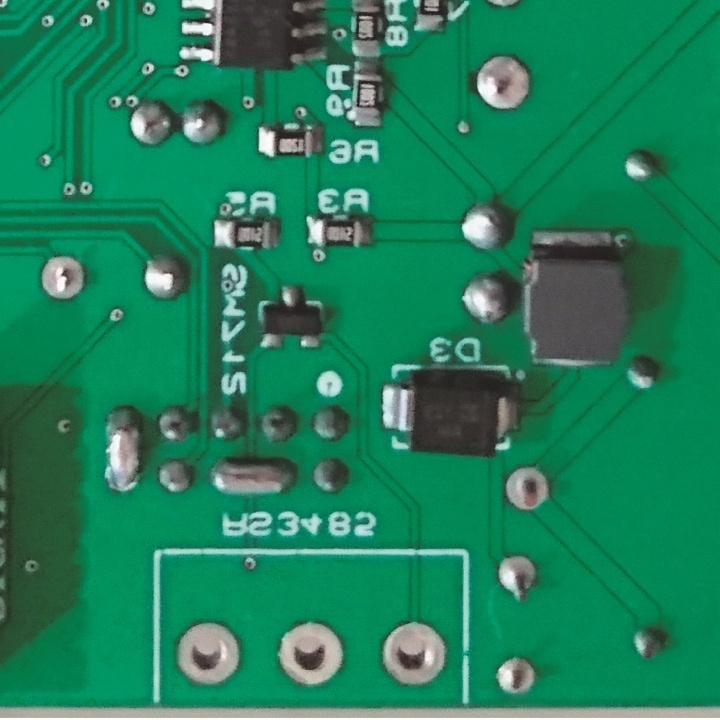F: (377, 619, 451, 689), (276, 618, 346, 689), (172, 620, 245, 686), (474, 52, 533, 112), (36, 250, 87, 302), (503, 463, 553, 515), (492, 549, 541, 602), (490, 653, 536, 696)
P: (99, 404, 147, 498), (209, 455, 299, 502)
